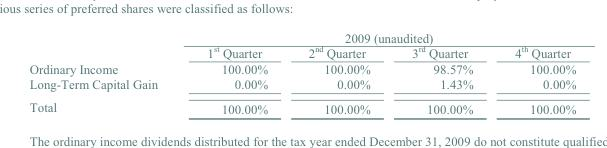table: (28, 28, 575, 116)
table column: (28, 28, 181, 116), (181, 28, 287, 116), (287, 28, 390, 116), (390, 28, 493, 116), (493, 28, 575, 116)
table column header: (28, 28, 575, 60)
table row: (28, 94, 575, 116), (28, 75, 575, 94), (28, 28, 575, 44), (28, 44, 575, 60), (28, 60, 575, 75)
table spanning cell: (181, 28, 575, 44)
